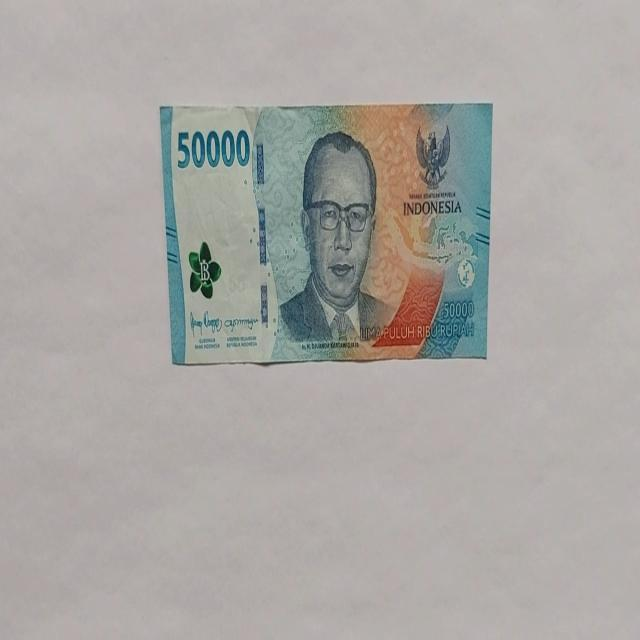lima puluh ribu rupiah: (160, 101, 492, 366), (272, 129, 396, 354)
